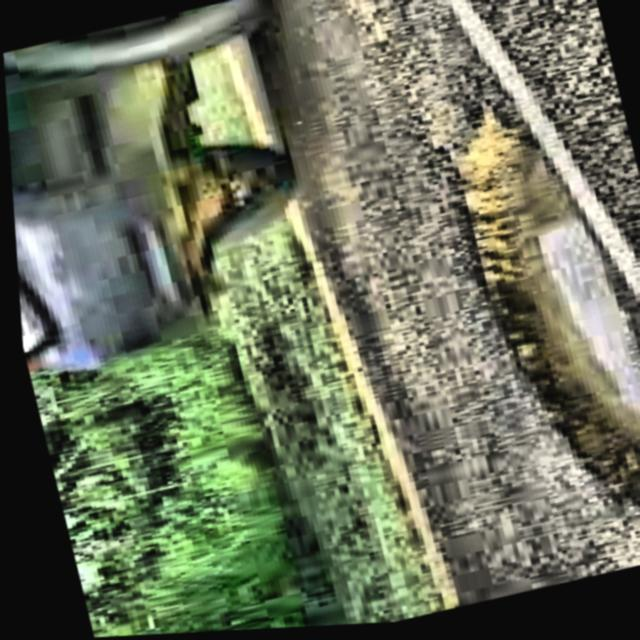Cracks: (451, 113, 640, 513)
